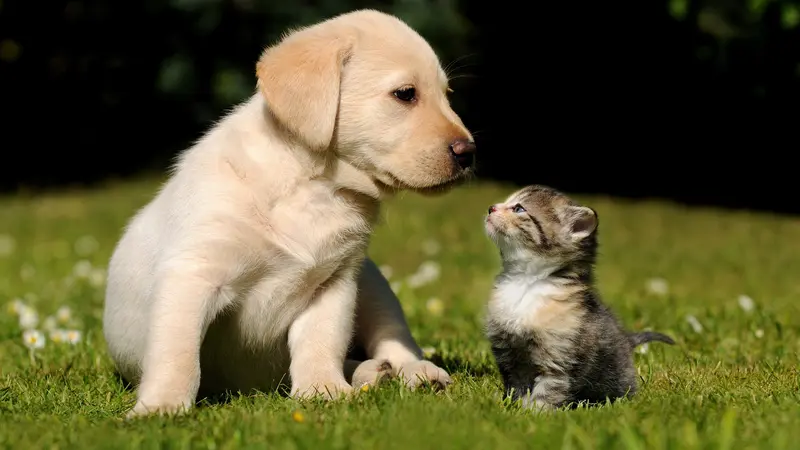anjing: (93, 3, 472, 436)
kucing: (480, 165, 649, 425)
